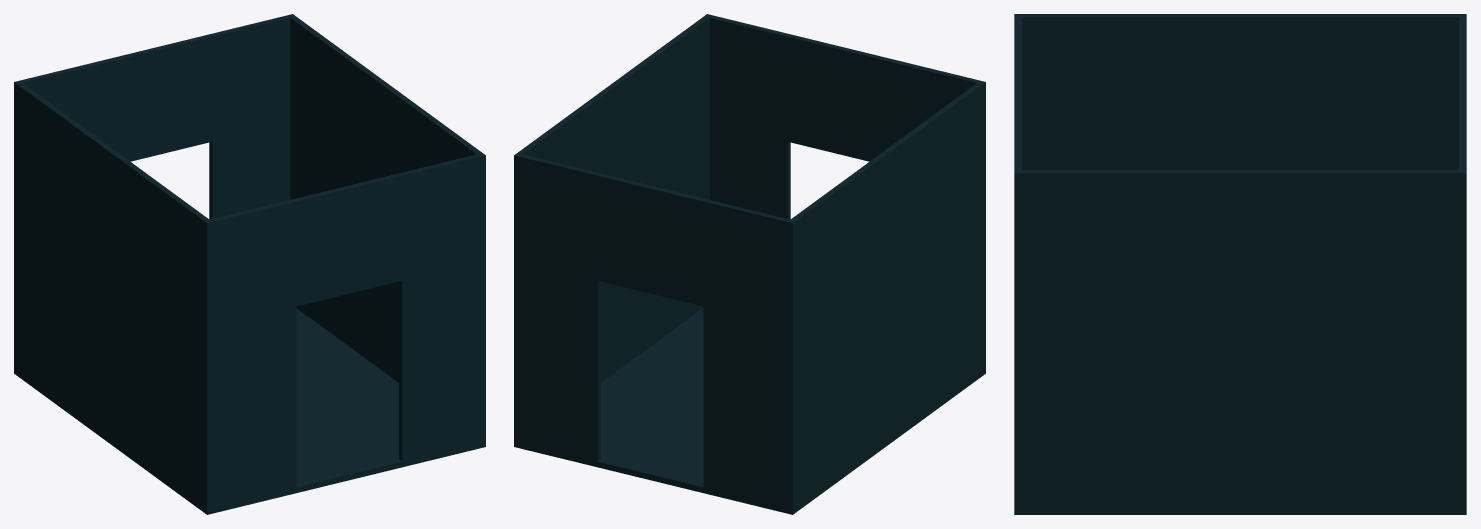
Rendered from KidsRoom-12.obj.
3 renders of one model, left to right at view 1: azimuth 30°, elevation 25°; view 2: azimuth 150°, elevation 25°; view 3: azimuth 270°, elevation 25°, orthographic. The views are drawn at different scales.
Bounding box in the file's own units: 5 × 5 × 6.
1 material, 1 textured.
